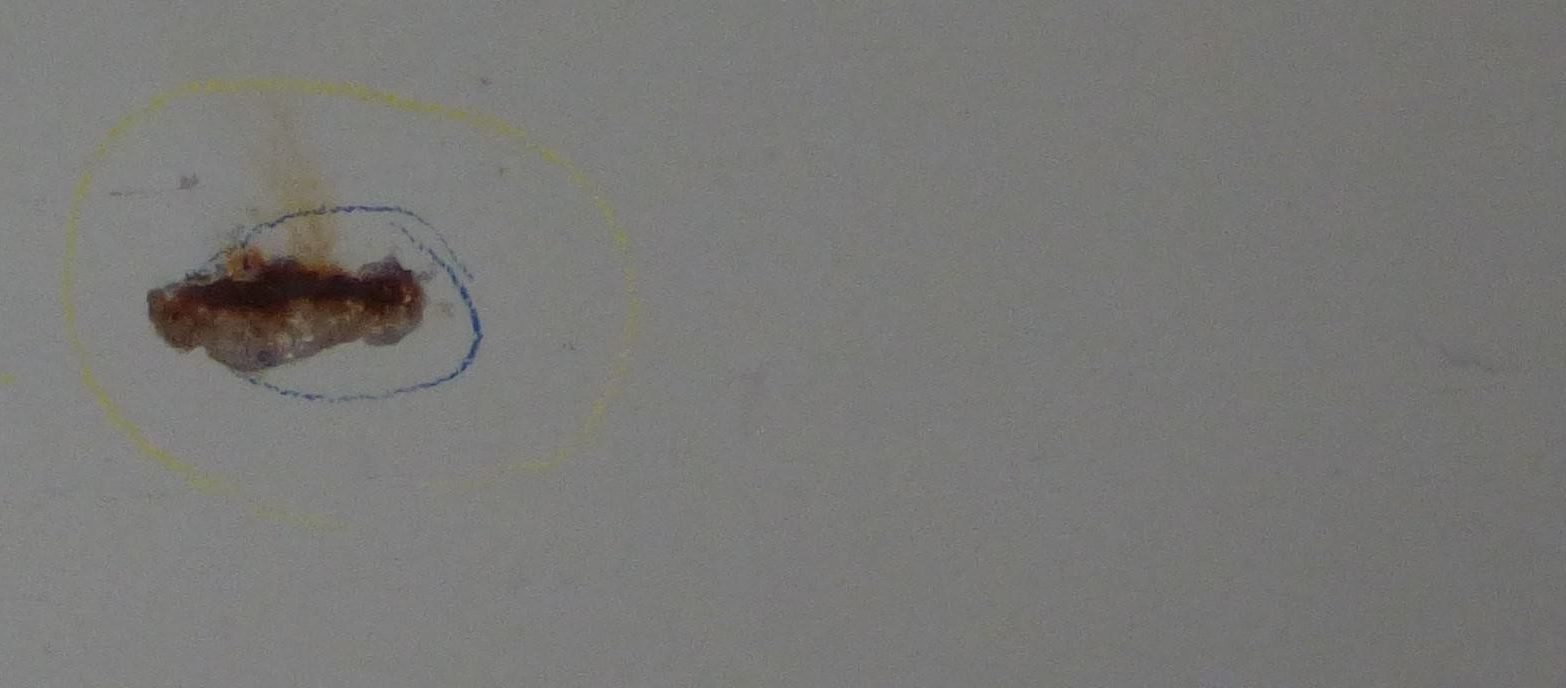Exposed reinforcement: (195, 276, 399, 309)
Spalling: (146, 248, 430, 375)
